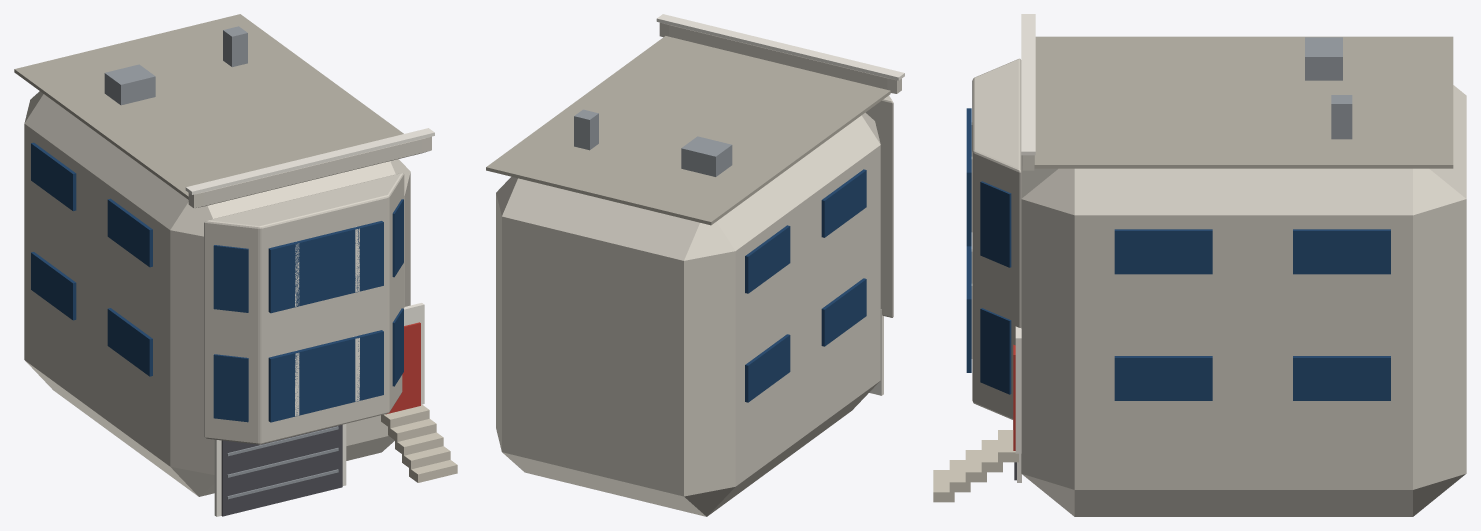
The model's file is rich_w7_plain.glb.
3 views of the same model, side by side, from view 1: azimuth 30°, elevation 25°; view 2: azimuth 150°, elevation 25°; view 3: azimuth 270°, elevation 25° (orthographic). The views are drawn at different scales.
Parts seen in each view (by area): view 1: walls, roofslab, bay, bw.001, bw, gdoor, pp, pcap, bwa.002, bwa, sb.004, sb (+14 smaller); view 2: walls, roofslab, bay, pp, pcap, sb, sb.002, sb.004, sb.006, hvac, pipe; view 3: walls, roofslab, bay, sb.005, sb.007, sb.001, sb.003, bwa.001, bwa.003, pcap, hvac, pipe (+7 smaller).
Boxes of the visible parts, left/top/right/bottom form: walls: left=24, top=91, right=410, bottom=496; roofslab: left=14, top=14, right=403, bottom=199; bay: left=204, top=173, right=404, bottom=444; bw.001: left=268, top=221, right=383, bottom=313; bw: left=268, top=330, right=383, bottom=422; gdoor: left=221, top=424, right=342, bottom=516; pp: left=188, top=136, right=431, bottom=208; pcap: left=185, top=128, right=434, bottom=194; bwa.002: left=213, top=245, right=248, bottom=312; bwa: left=213, top=354, right=248, bottom=422; sb.004: left=107, top=198, right=152, bottom=267; sb: left=107, top=308, right=152, bottom=376; walls: left=496, top=112, right=880, bottom=516; roofslab: left=486, top=36, right=890, bottom=225; bay: left=865, top=95, right=893, bottom=317; pp: left=659, top=22, right=901, bottom=93; pcap: left=656, top=14, right=904, bottom=80; sb: left=821, top=278, right=866, bottom=346; sb.002: left=745, top=334, right=790, bottom=402; sb.004: left=821, top=169, right=866, bottom=237; sb.006: left=745, top=225, right=790, bottom=293; hvac: left=681, top=136, right=732, bottom=176; pipe: left=574, top=109, right=598, bottom=150; walls: left=1021, top=85, right=1466, bottom=516; roofslab: left=1034, top=36, right=1453, bottom=168; bay: left=972, top=58, right=1021, bottom=419; sb.005: left=1114, top=229, right=1212, bottom=274; sb.007: left=1293, top=229, right=1390, bottom=274; sb.001: left=1114, top=356, right=1212, bottom=400; sb.003: left=1293, top=356, right=1390, bottom=400; bwa.001: left=980, top=308, right=1011, bottom=394; bwa.003: left=980, top=181, right=1011, bottom=267; pcap: left=1021, top=14, right=1035, bottom=155; hvac: left=1305, top=37, right=1342, bottom=80; pipe: left=1331, top=95, right=1352, bottom=139.
Size of the model in its own units: 7.8 by 10.4 by 12.57.
